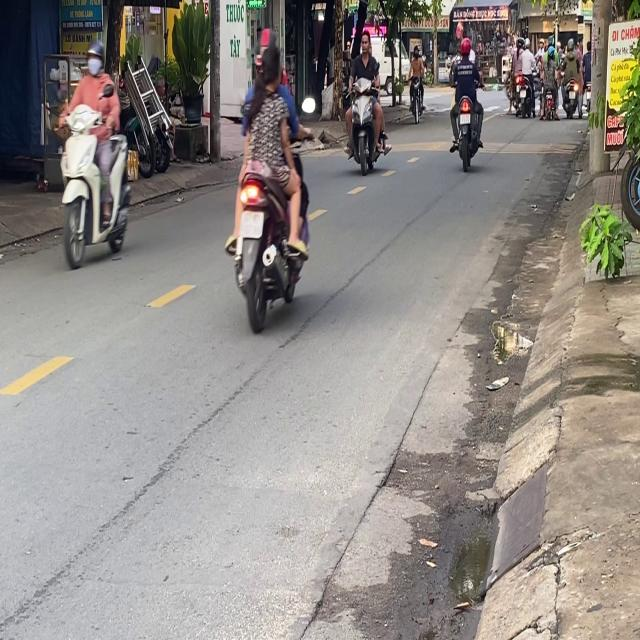helmet: (85, 40, 105, 74), (258, 28, 278, 56), (459, 36, 470, 56)
licenseplate: (224, 24, 312, 329), (56, 39, 134, 267), (342, 26, 388, 174), (447, 35, 484, 168)
motorcyclist: (258, 43, 282, 87), (359, 27, 372, 56)
nohelmet: (240, 211, 263, 237), (459, 112, 470, 124)
